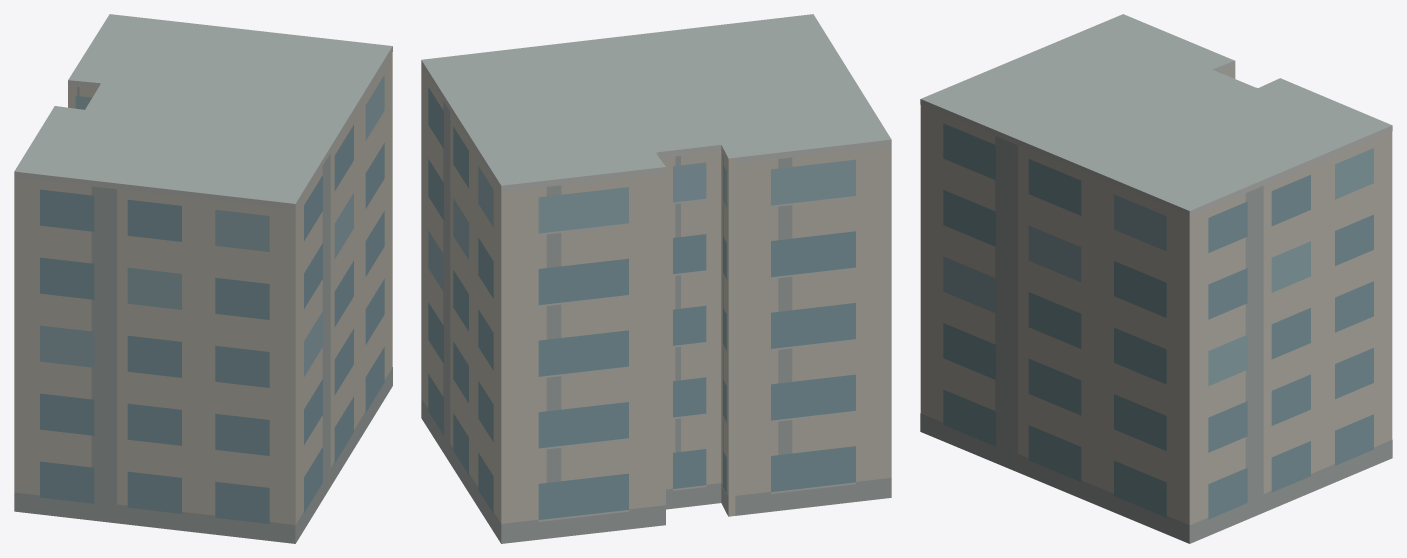
File: survey-upis-32625771.glb
3 renders of one model, left to right at view 1: azimuth 30°, elevation 25°; view 2: azimuth 150°, elevation 25°; view 3: azimuth 270°, elevation 25°, orthographic. The views are drawn at different scales.
Parts seen in each view (by area): view 1: survey-upis-32625771.tmp; view 2: survey-upis-32625771.tmp; view 3: survey-upis-32625771.tmp.
Boxes of the visible parts, x1,y1,x2,y2 form: survey-upis-32625771.tmp: [14, 14, 392, 543]; survey-upis-32625771.tmp: [421, 14, 891, 543]; survey-upis-32625771.tmp: [920, 14, 1392, 543].
Bounding box in the file's own units: 17.66 × 13.9 × 17.87.
